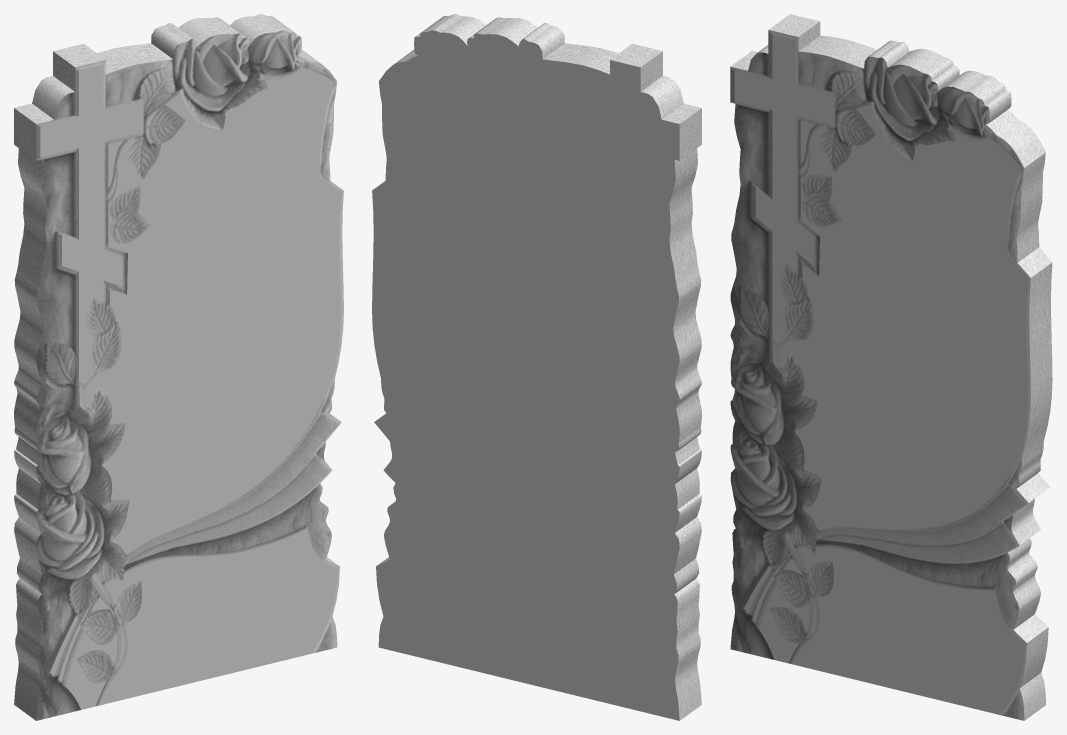
File: cnc8f67b0cf6_tkf.glb
3 renders of one model, left to right at view 1: azimuth 30°, elevation 25°; view 2: azimuth 150°, elevation 25°; view 3: azimuth 330°, elevation 25°, orthographic. The views are drawn at different scales.
Parts seen in each view (by area): view 1: Pam-d01-226, Pam-d01-226_2_notexture; view 2: Pam-d01-226, Pam-d01-226_2_notexture; view 3: Pam-d01-226, Pam-d01-226_2_notexture.
Part boxes in pixels (box(x1,y1,x2,y2)): Pam-d01-226: box(40, 64, 341, 709); Pam-d01-226_2_notexture: box(14, 14, 343, 720); Pam-d01-226: box(372, 30, 679, 720); Pam-d01-226_2_notexture: box(375, 14, 701, 720); Pam-d01-226: box(734, 34, 1028, 714); Pam-d01-226_2_notexture: box(730, 14, 1052, 720).
Bounding box in the file's own units: 0.4 × 0.8 × 0.05.
Materials: 1 (1 with a texture image).
